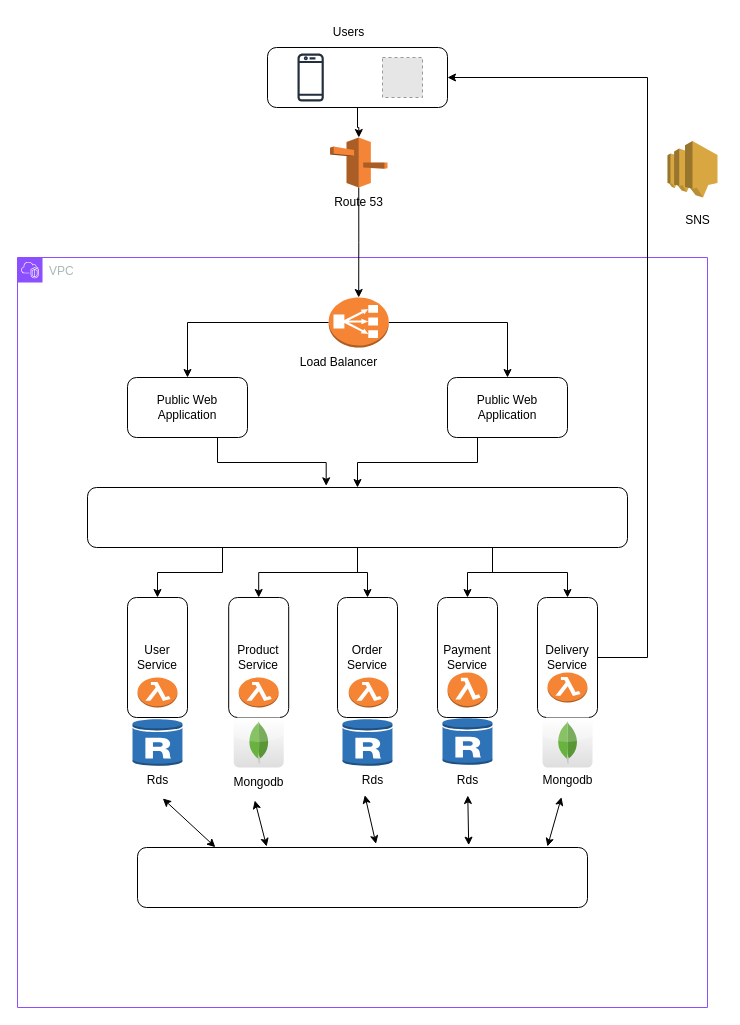
This 740x1025 diagram has some shape labels left out. Grey dashed boxes stand in for pictures. Here are the shapes that lost their labels. From the top down, the centre of each, then its label:
At (x=357, y=517): "API Gateway".
At (x=362, y=877): "Rabbitmq / Service Bus".
